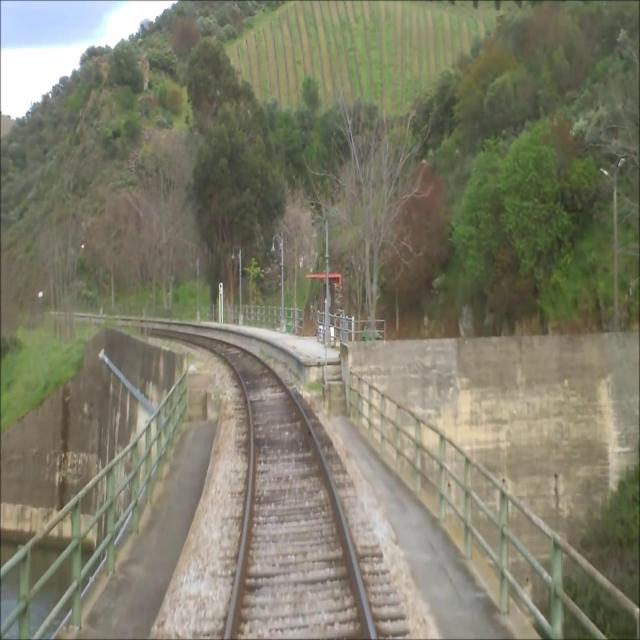rail-track: (194, 338, 369, 639)
